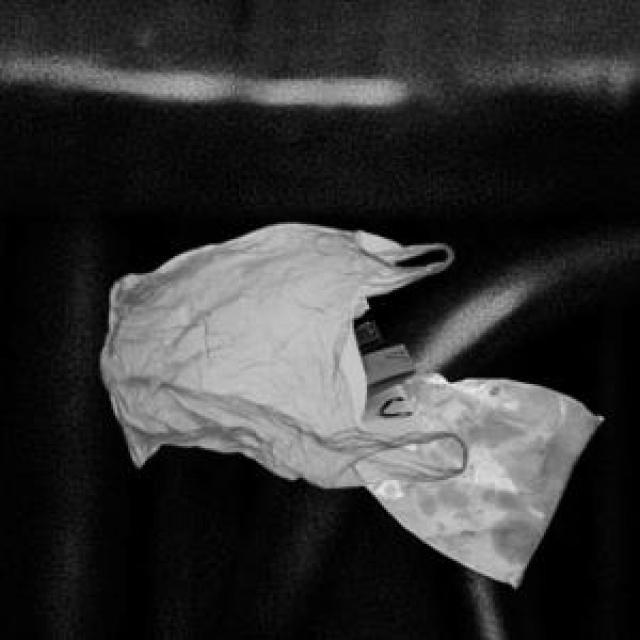paper: (361, 369, 600, 585), (348, 294, 418, 433)
